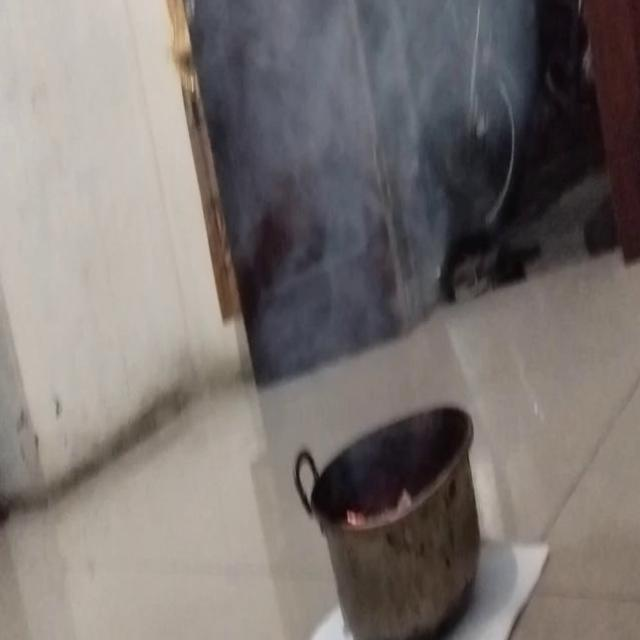fire: (204, 0, 503, 323)
